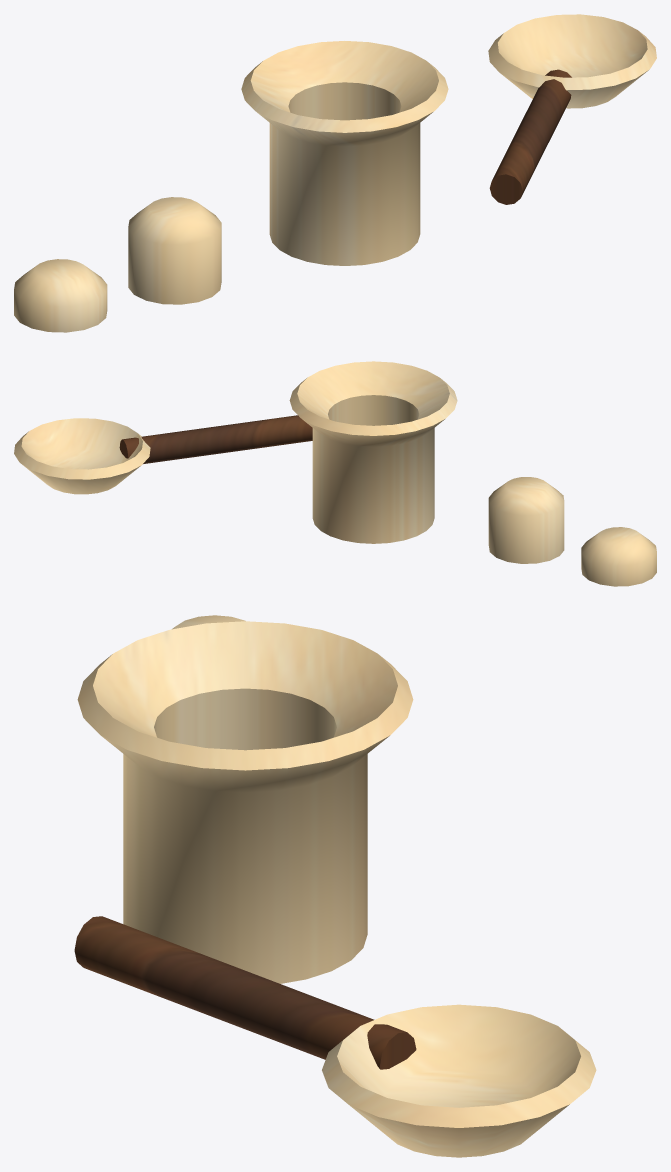
Rendered from CM_AF01_MeasuringTools.fbx.
3 views of the same model, one above another, from view 1: azimuth 30°, elevation 25°; view 2: azimuth 150°, elevation 25°; view 3: azimuth 270°, elevation 25° (orthographic). The views are drawn at different scales.
Parts seen in each view (by area): view 1: CM_AF01_MeasuringTools; view 2: CM_AF01_MeasuringTools; view 3: CM_AF01_MeasuringTools.
Boxes of the visible parts, x1,y1,x2,y2 form: CM_AF01_MeasuringTools: (14, 14, 656, 332); CM_AF01_MeasuringTools: (14, 361, 656, 586); CM_AF01_MeasuringTools: (74, 615, 596, 1157).
Size of the model in its own units: 0.43 by 0.09 by 0.171.
